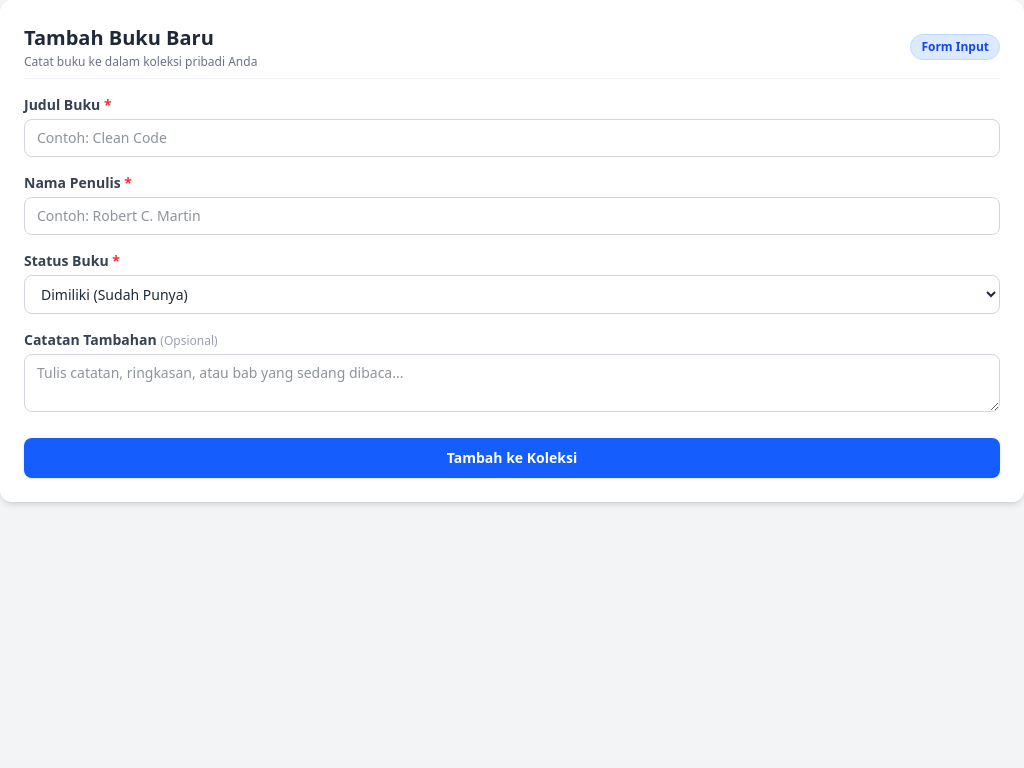
Test case: Unit Tests: Aplikasi Manajemen Buku Pribadi › 2. Berhasil menambahkan buku baru dan menampilkan pesan sukses
Type "Refactoring: Improving the Design of Existing Code" into the field labelled "Judul Buku *". click: (512, 138)
box: [24, 119, 1000, 157]
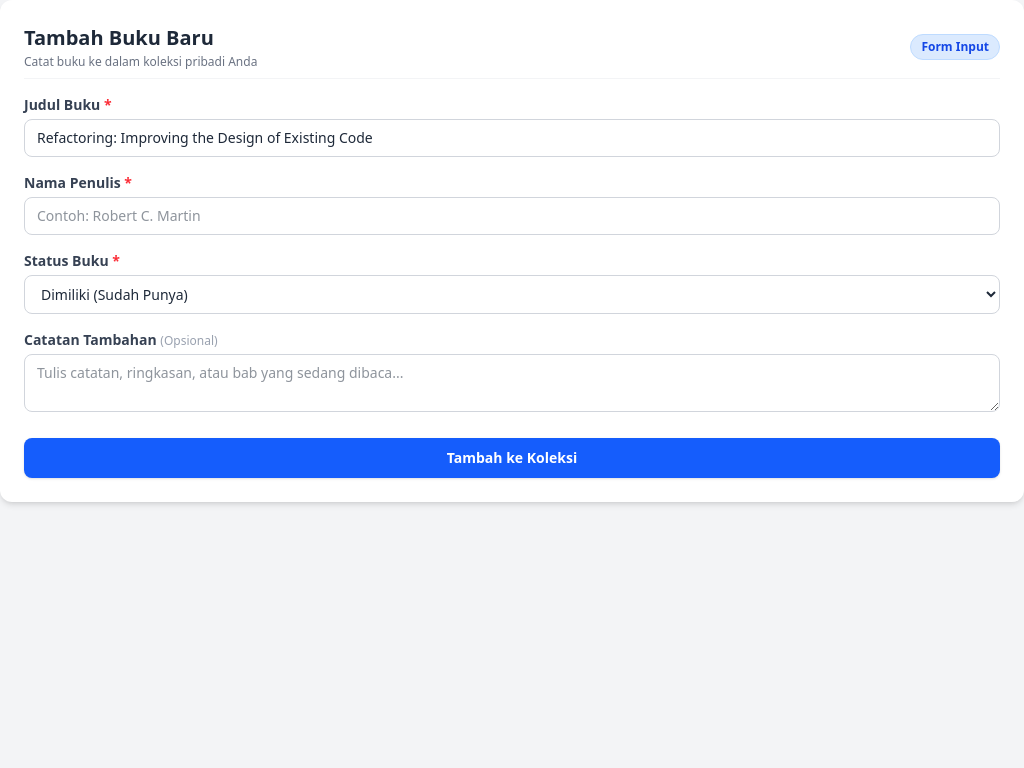
Type "Martin Fowler" into the field labelled "Nama Penulis *". click: (512, 216)
box: [24, 197, 1000, 235]
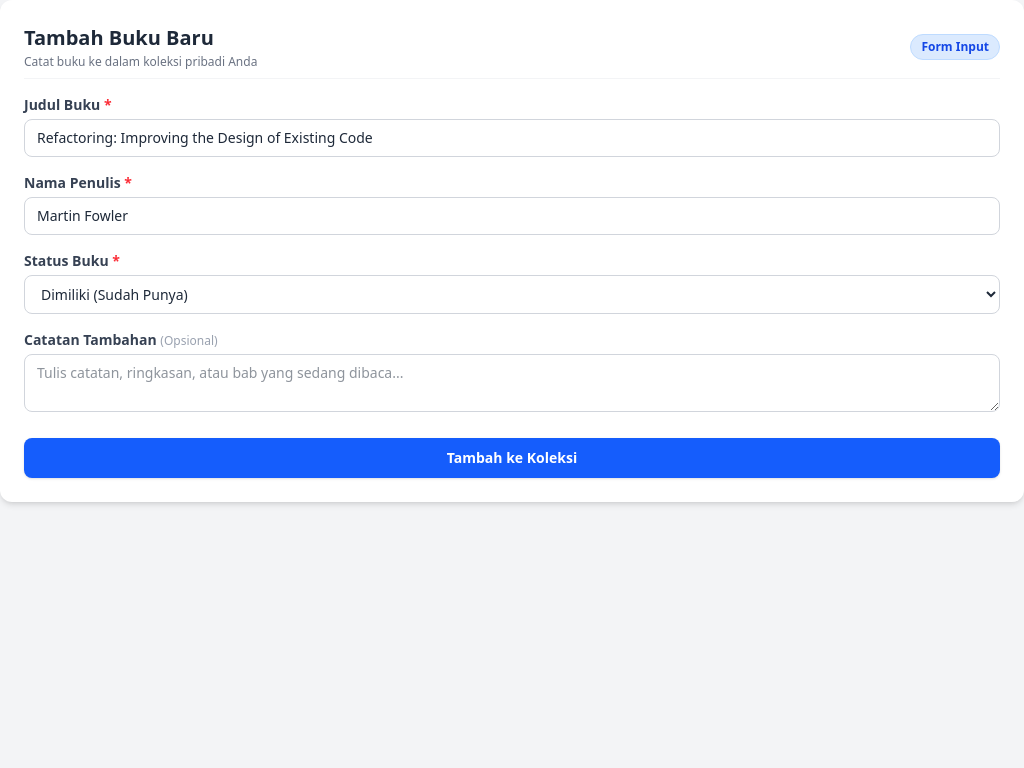
Select "Sedang Dibaca" in the dropdown labelled "Status Buku *". click: (512, 294)
box: [24, 275, 1000, 314]
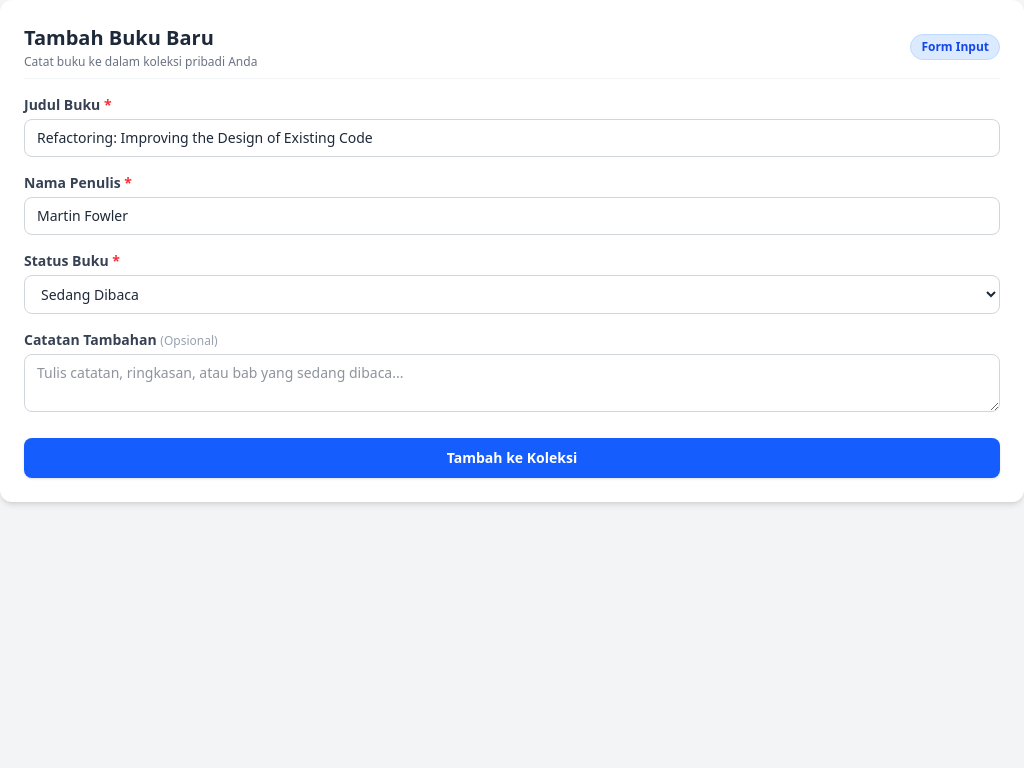
Click the button "Tambah ke Koleksi". click: (512, 458)
box: [24, 438, 1000, 478]
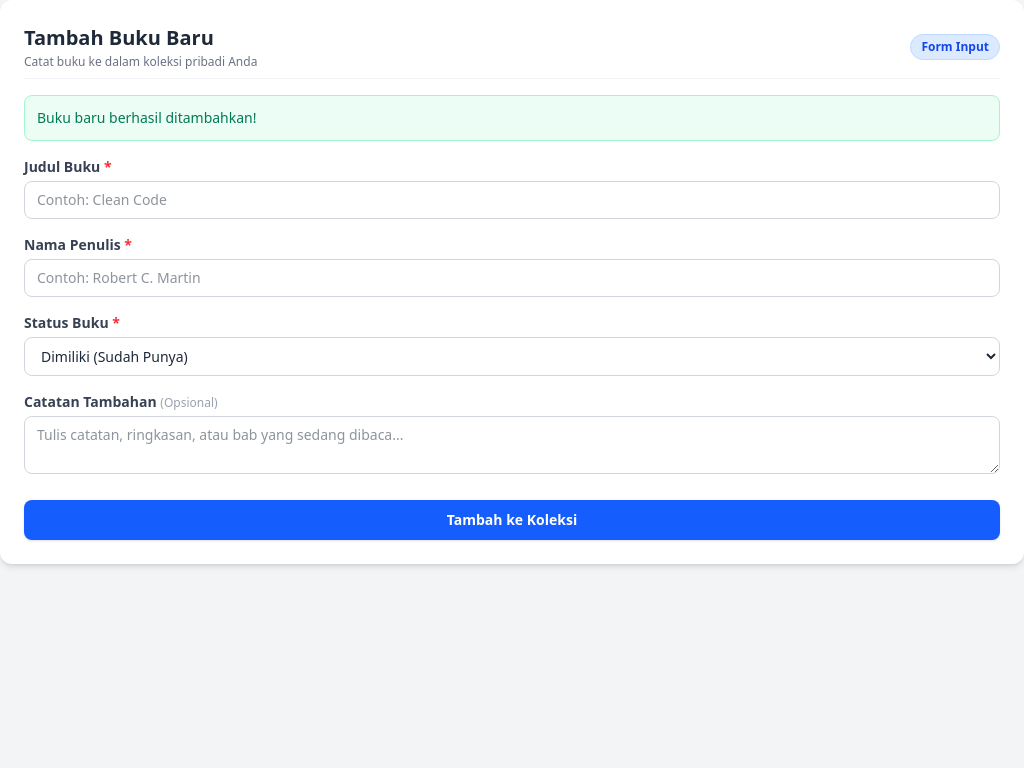
Expected: the text "Buku baru berhasil ditambahkan!" is shown, [37, 108, 256, 128]
